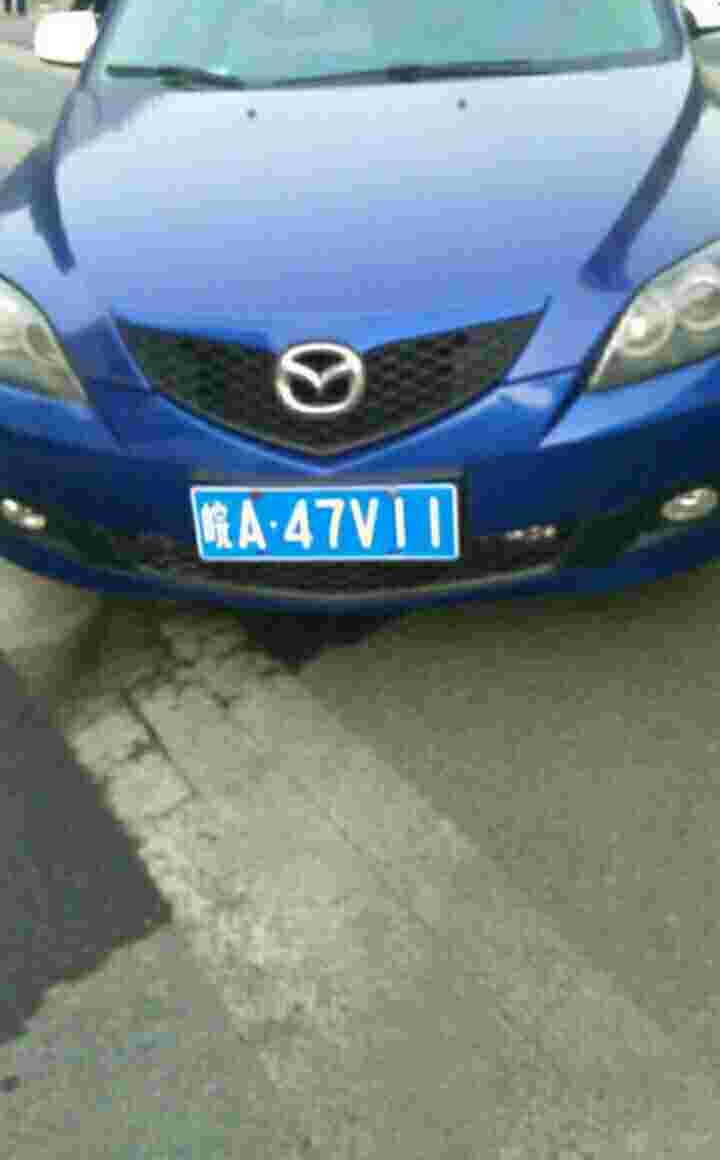plate: (193, 482, 466, 565)
